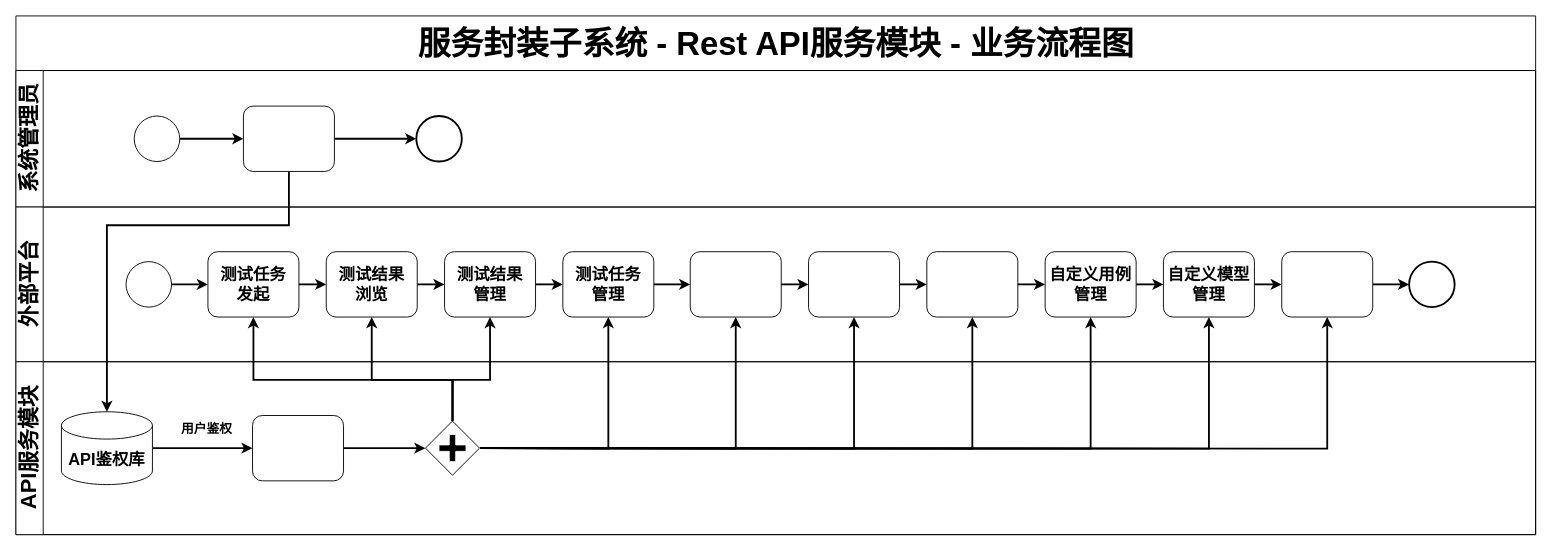
The diagram is 1552 pixels wide and 551 high, and some of its shapes have lost their labels. Each missing label, with the centre of its shape:
"API服务" goes at (298,448).
"自定义工具 管理" goes at (854,284).
"自定义方案 管理" goes at (735,284).
"自定义标准 管理" goes at (1327,284).
"自定义算法 管理" goes at (972,284).
"配置发放 API密钥" goes at (288,138).
